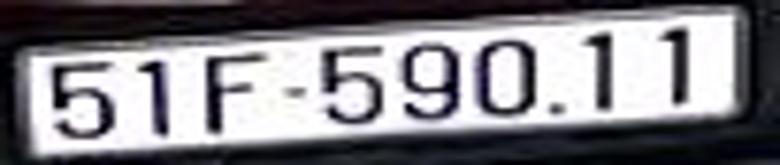-: (284, 87, 307, 99)
.: (544, 104, 569, 114)
0: (475, 39, 538, 117)
1: (656, 26, 692, 107), (579, 32, 612, 113), (139, 62, 170, 136)
5: (318, 46, 383, 125), (50, 63, 115, 137)
9: (401, 46, 460, 118)
F: (204, 56, 263, 135)
